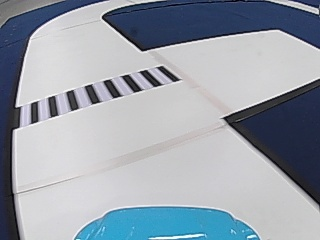CrossWalk: (24, 67, 173, 121)
